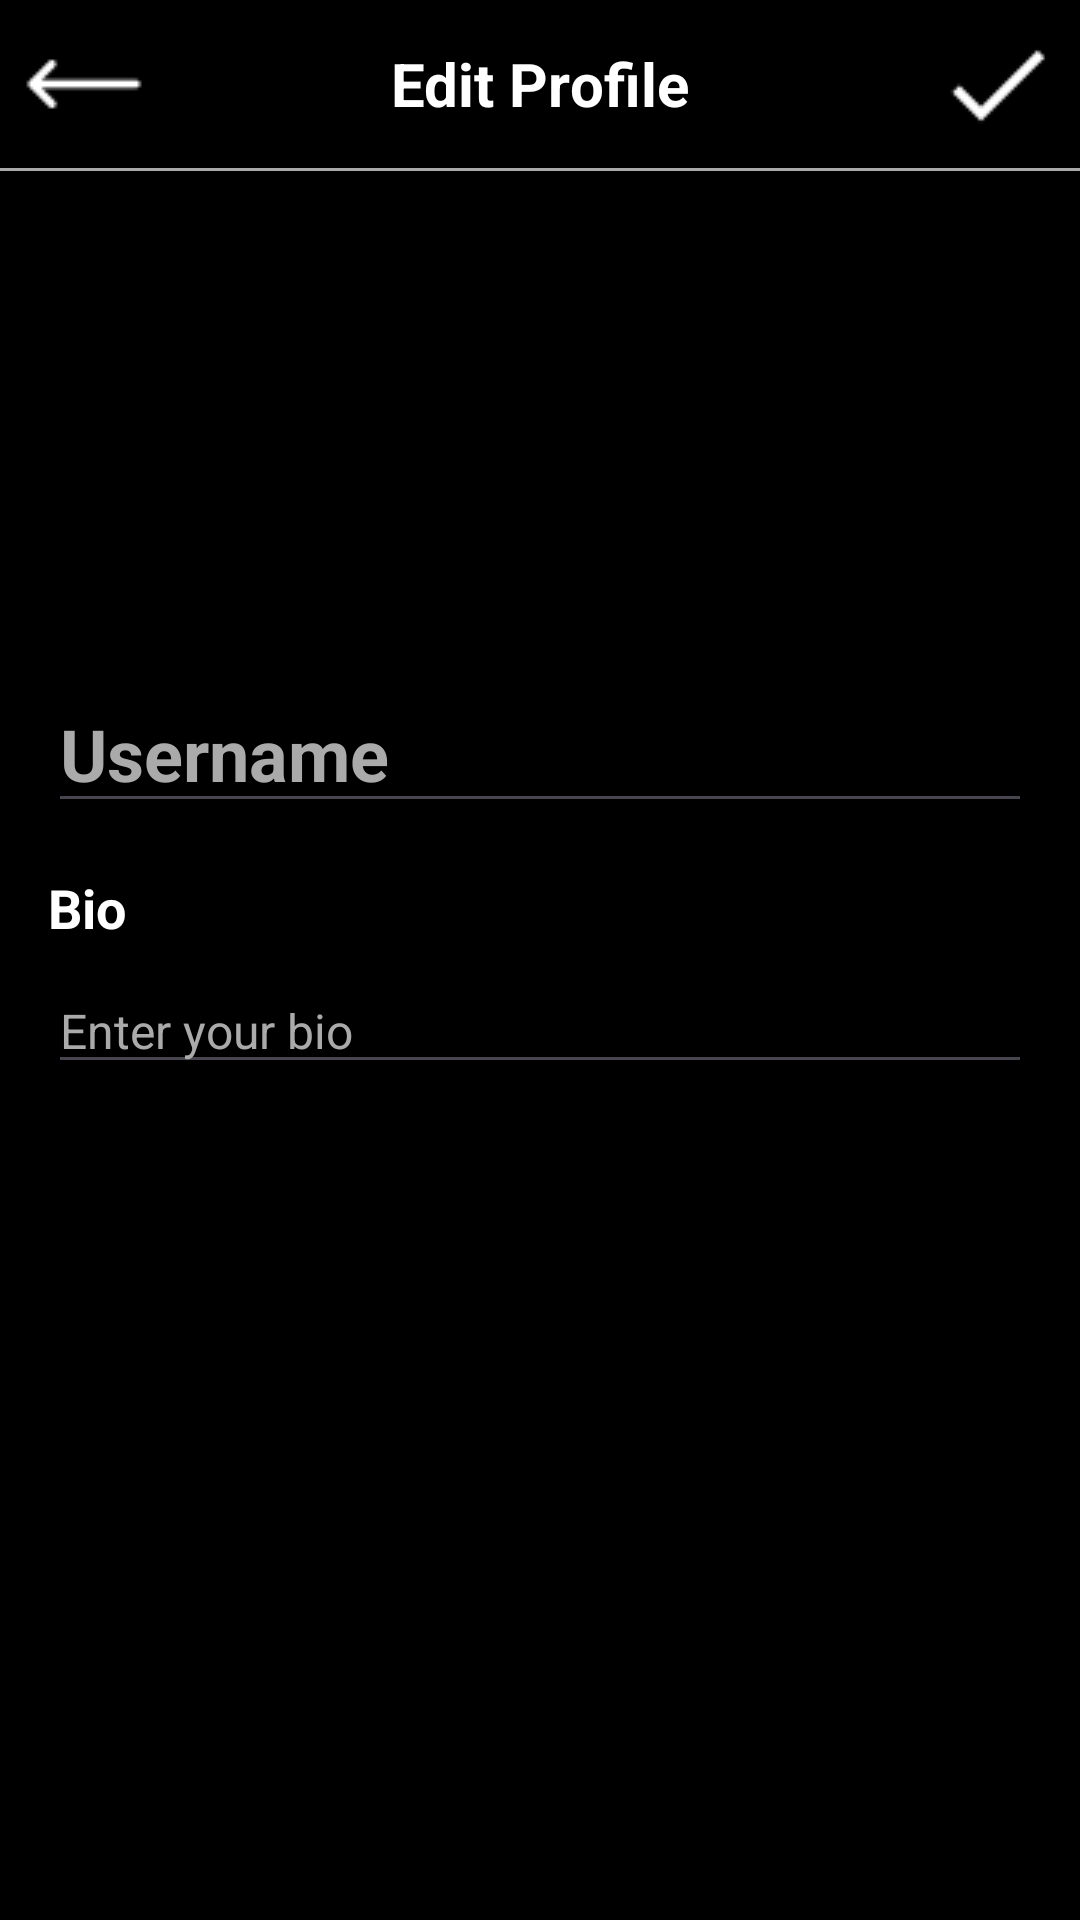

Where to tap for icons on this 1080*1920 app screen, as (x=x, y=y):
Go back: (x=84, y=84)
Save: (x=998, y=85)
